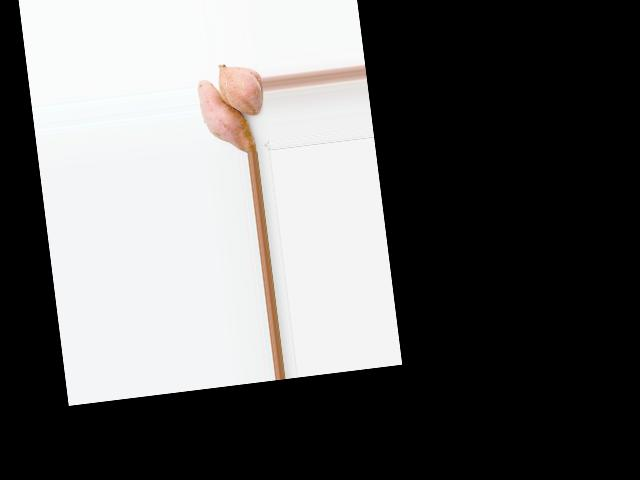sweet_potato: (220, 59, 260, 115)
